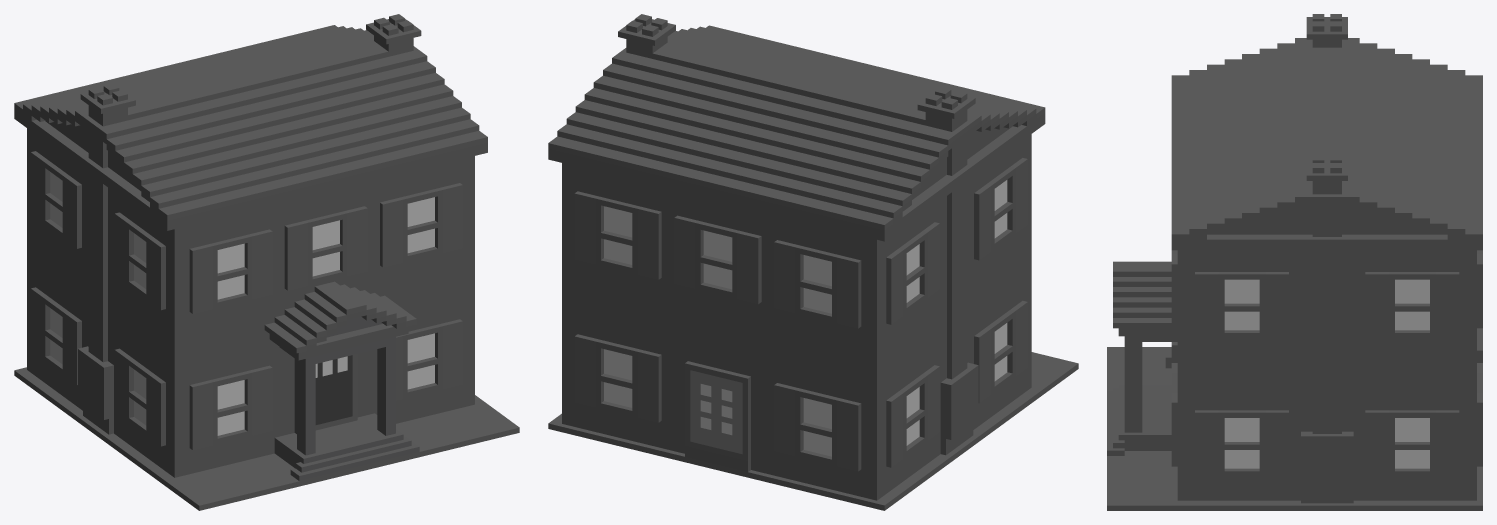
File: bld_house4.obj
3 renders of one model, left to right at view 1: azimuth 30°, elevation 25°; view 2: azimuth 150°, elevation 25°; view 3: azimuth 270°, elevation 25°, orthographic. The views are drawn at different scales.
Bounding box in the file's own units: 64 × 64 × 64.
